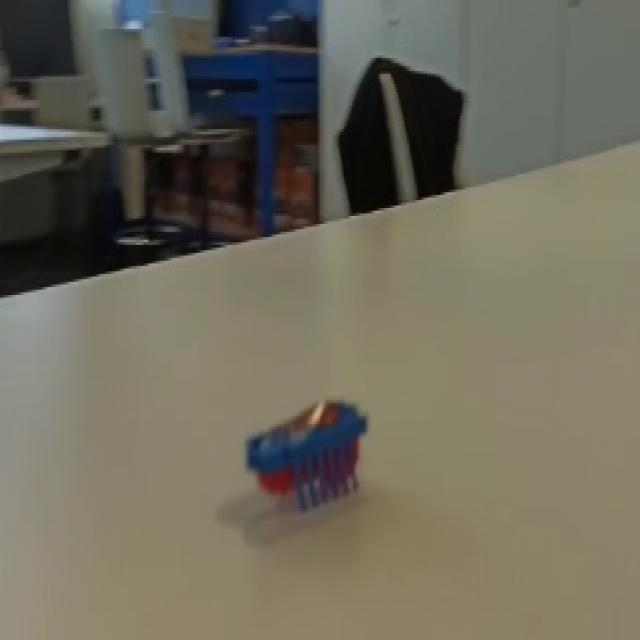1_NanoBug_Azul: (200, 376, 426, 550)
